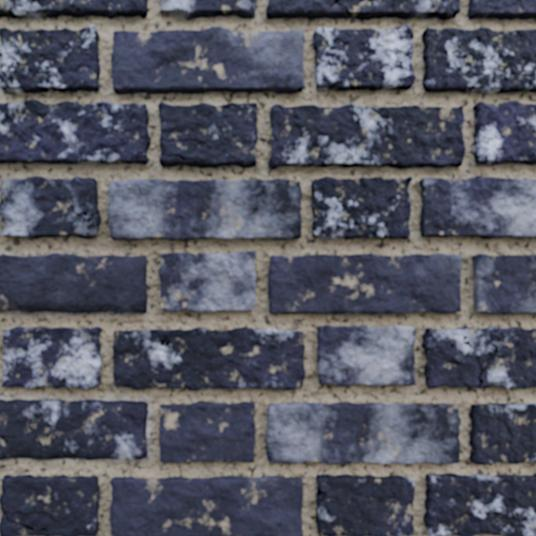brick: (269, 103, 464, 168), (111, 27, 303, 93), (113, 327, 304, 389), (108, 179, 301, 240), (266, 403, 460, 463), (110, 476, 302, 535), (268, 254, 460, 313), (0, 100, 149, 163), (422, 28, 535, 92), (420, 176, 535, 238), (424, 473, 535, 535), (422, 327, 535, 387), (313, 25, 414, 90), (0, 26, 99, 92), (158, 103, 256, 167), (0, 177, 100, 238), (312, 177, 411, 238), (2, 327, 100, 388), (0, 475, 99, 535), (316, 475, 413, 535), (160, 401, 254, 462), (317, 326, 414, 385), (159, 252, 255, 311), (470, 403, 535, 464), (474, 101, 535, 164), (266, 0, 459, 19), (473, 254, 535, 313), (0, 0, 147, 18), (161, 0, 255, 19), (468, 0, 535, 18), (0, 515, 47, 535)
broken_brick: (0, 399, 147, 460), (0, 252, 147, 313)
crack: (462, 335, 500, 388), (0, 506, 58, 535), (63, 197, 99, 225), (159, 136, 212, 149), (160, 151, 204, 165), (146, 379, 194, 390), (329, 0, 349, 13), (316, 484, 327, 501), (452, 418, 460, 426), (318, 532, 335, 535), (296, 193, 301, 200), (411, 329, 415, 336)
